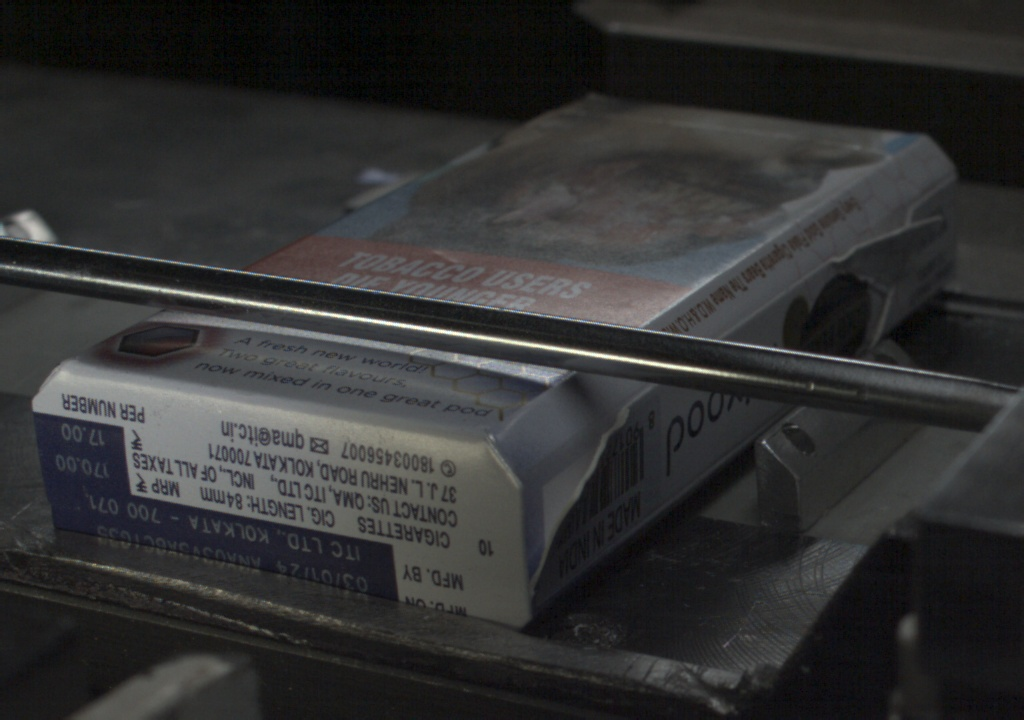g_bottom: (29, 374, 521, 629)
g_label: (47, 489, 393, 597)
g_miter: (911, 165, 961, 211)
ng_lmiter: (527, 447, 581, 576), (831, 219, 938, 266), (584, 401, 644, 476)
price: (44, 419, 129, 488)
